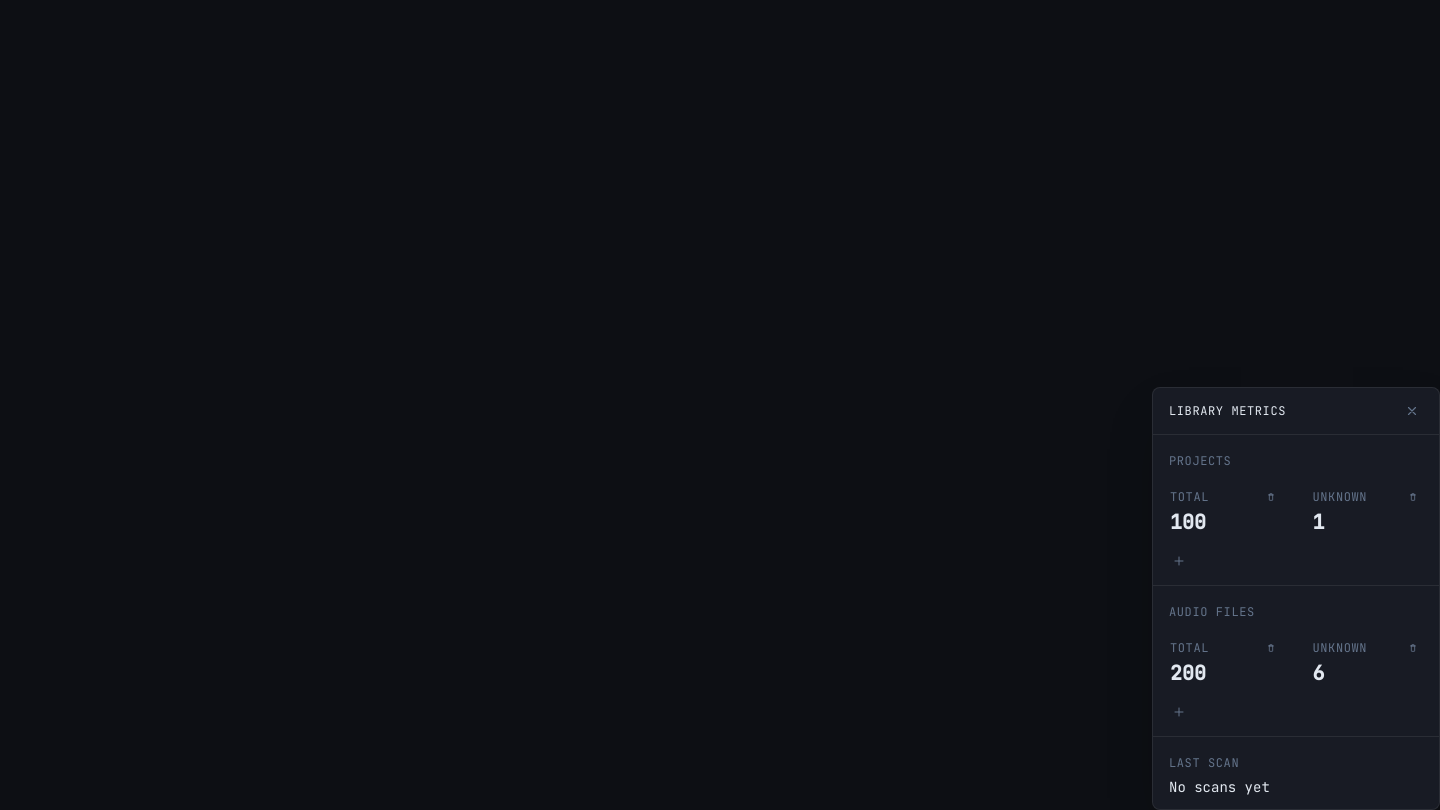
MetricsPanel - cross-section independence › adding a metric to Projects never affects Files, and the PUT patch never includes the other section's key
(page scrolled)
Click the button named "Add metric to Projects": (1179, 561) [1169,553,1189,569]
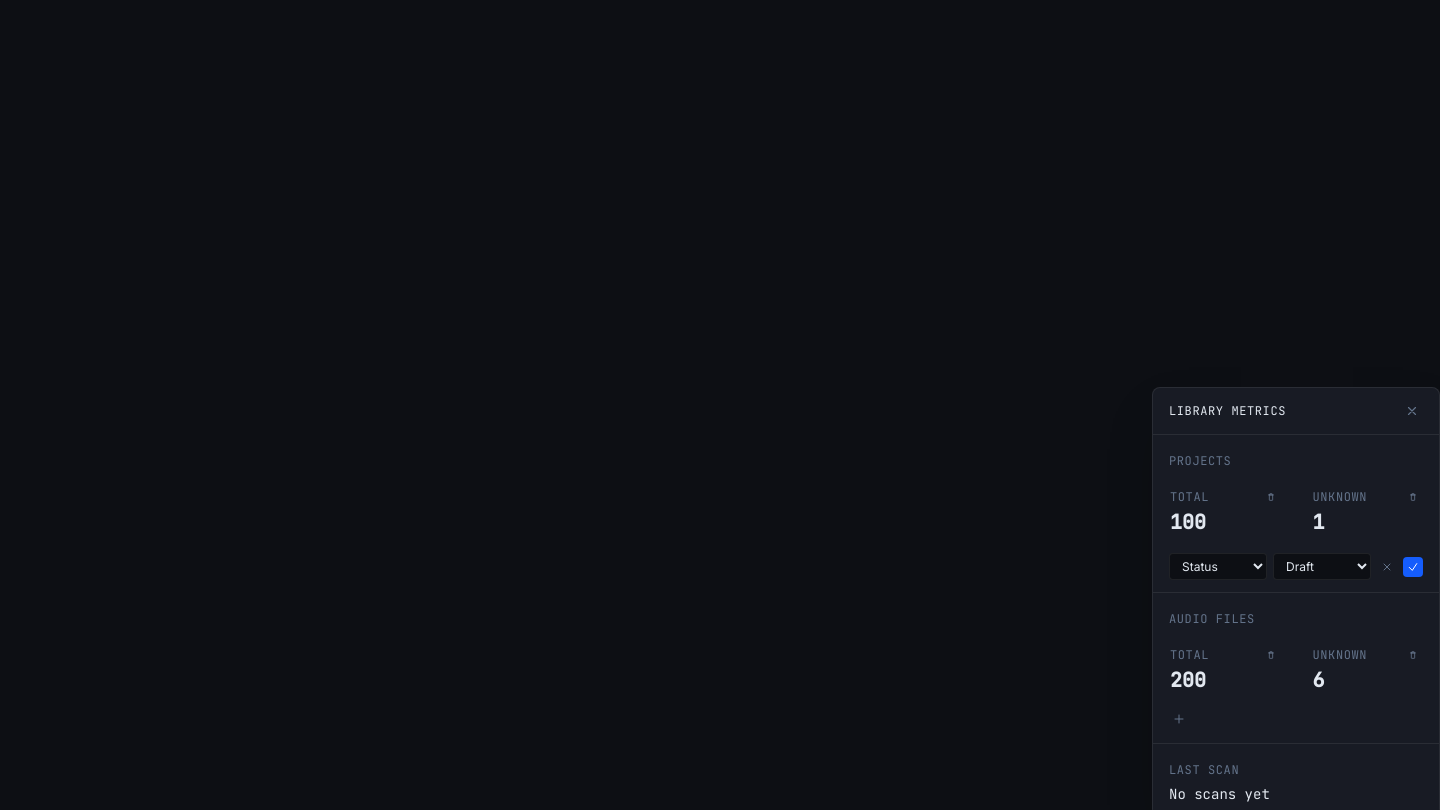
Select "Status" in the dropdown named "New Projects metric type": (1218, 566) [1169,553,1267,580]
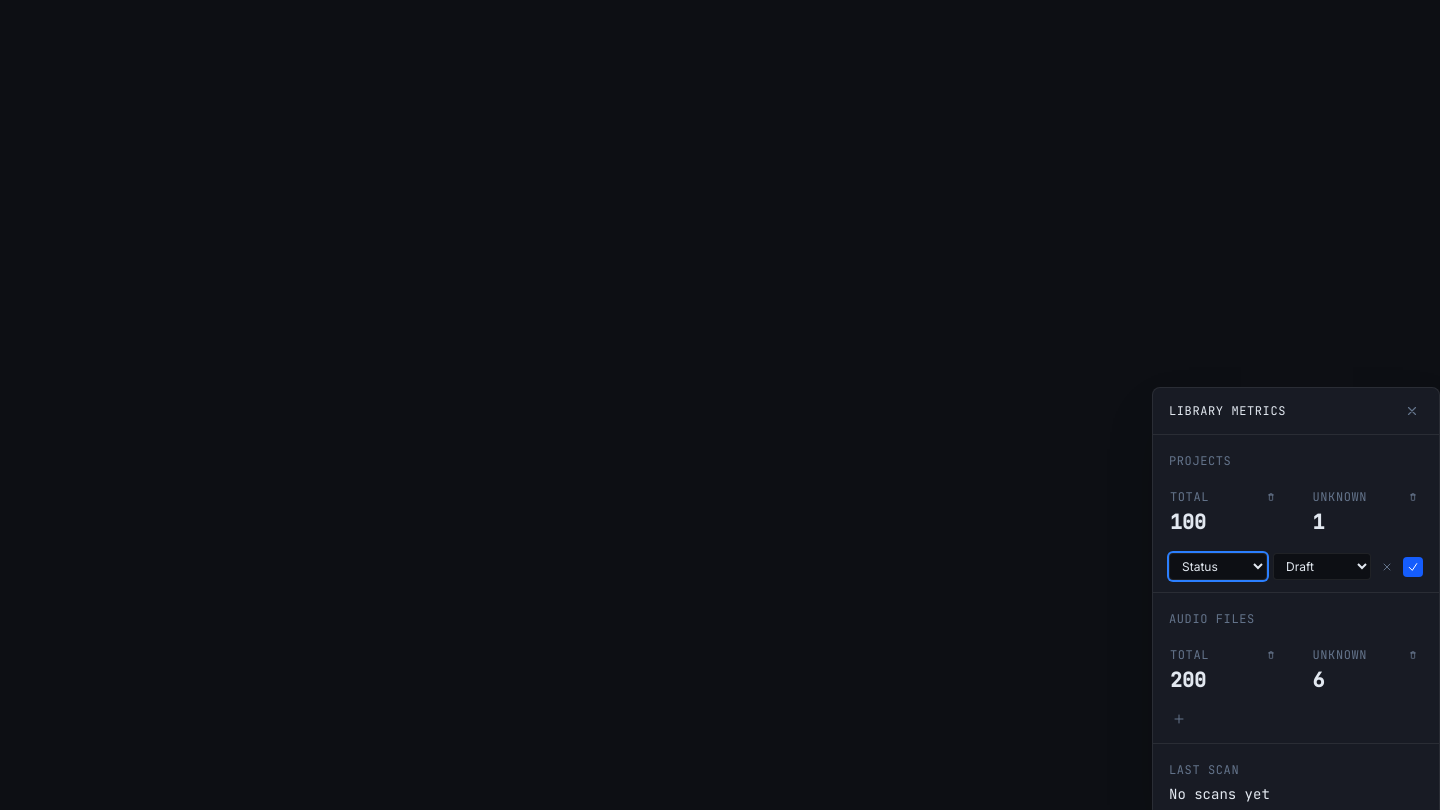
Select "Draft" in the dropdown named "New Projects metric value": (1322, 566) [1273,553,1371,580]
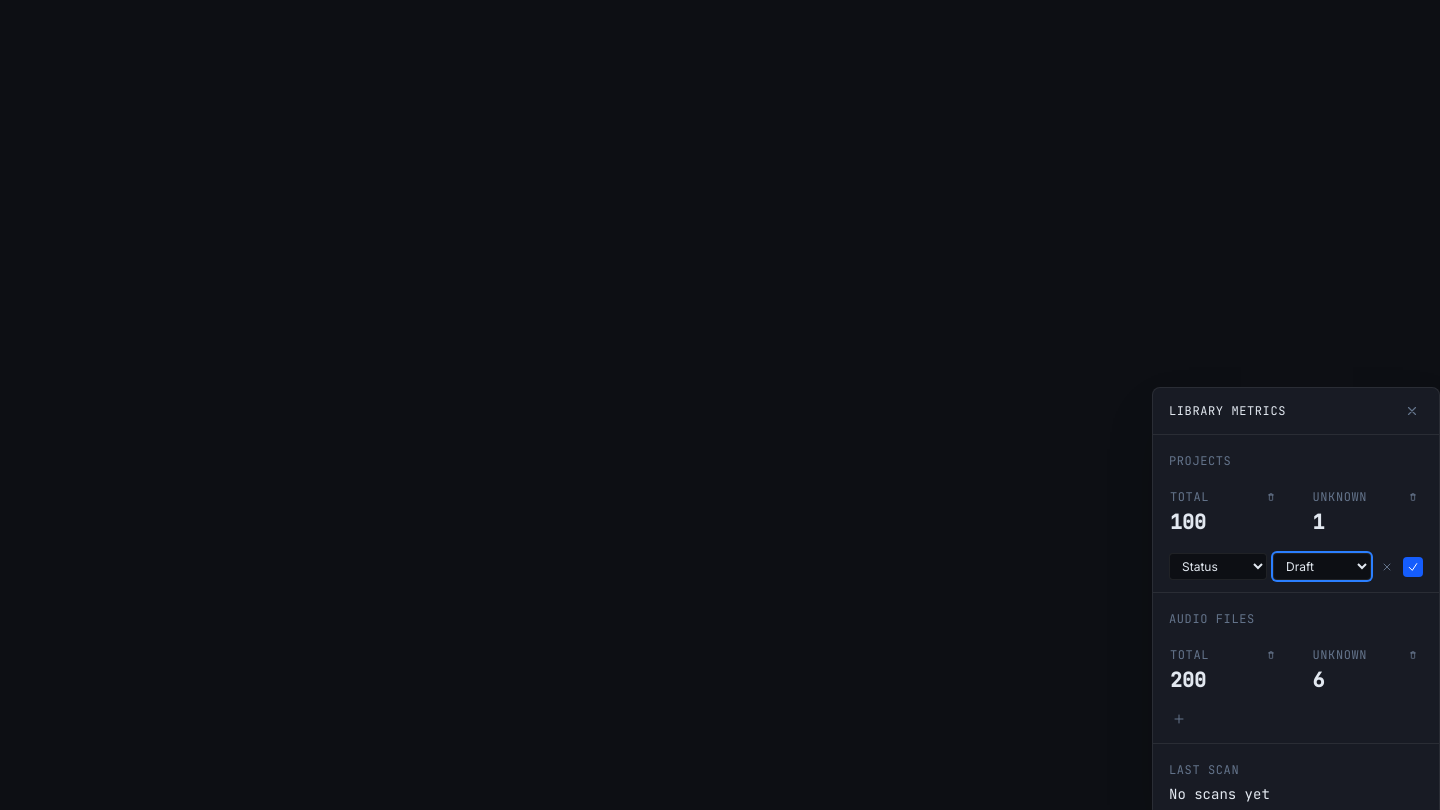
Click the button named "Confirm adding Projects metric": (1413, 566) [1403,556,1423,576]
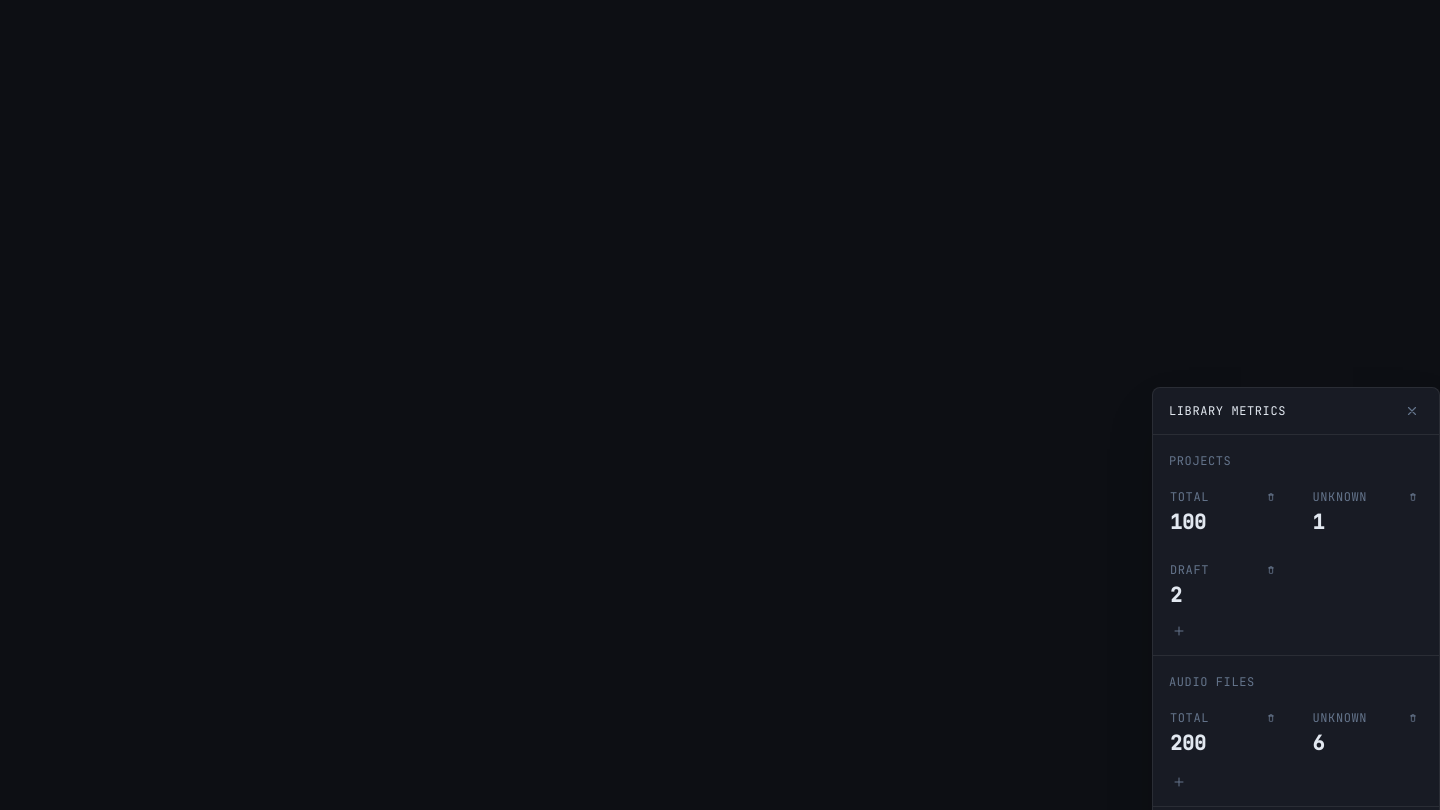
Expected: the text "Total" below "Audio Files" is shown, [1170,710,1209,726]
Expected: the text "Draft" is shown, [1170,562,1209,578]
